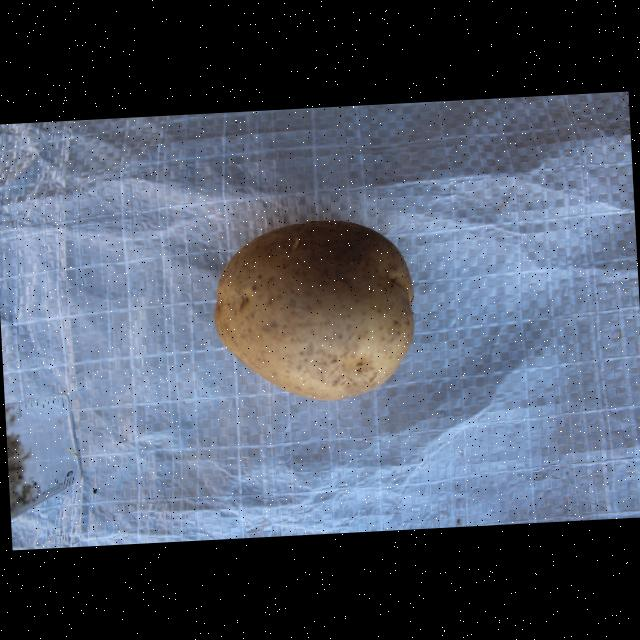Diseased-fungal potato: (205, 209, 426, 409)
